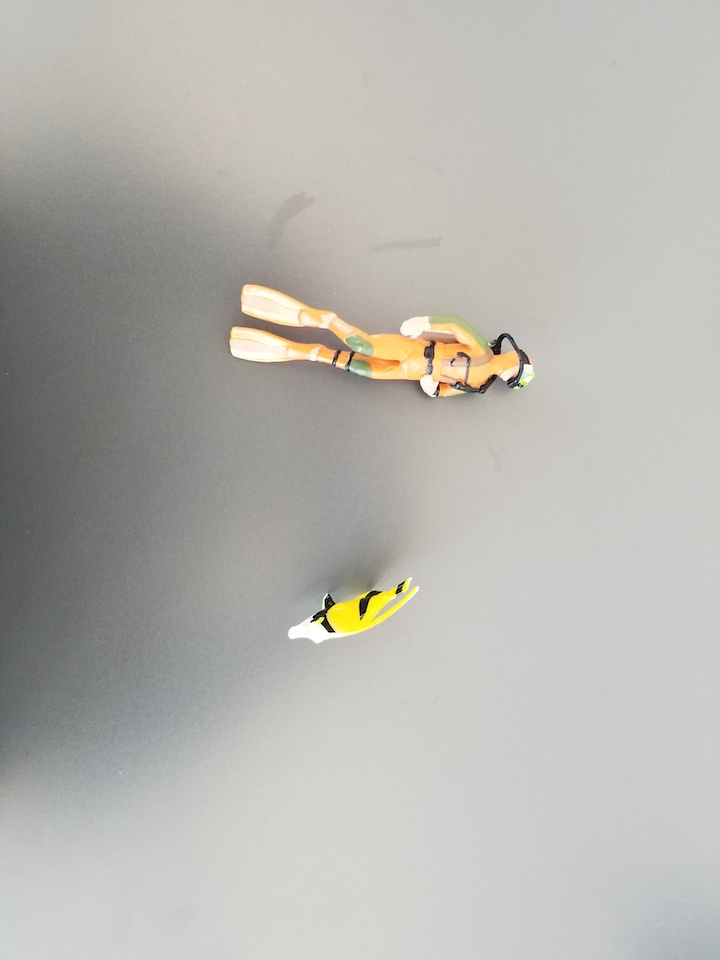danger: (285, 576, 423, 644)
diver: (229, 283, 537, 403)
